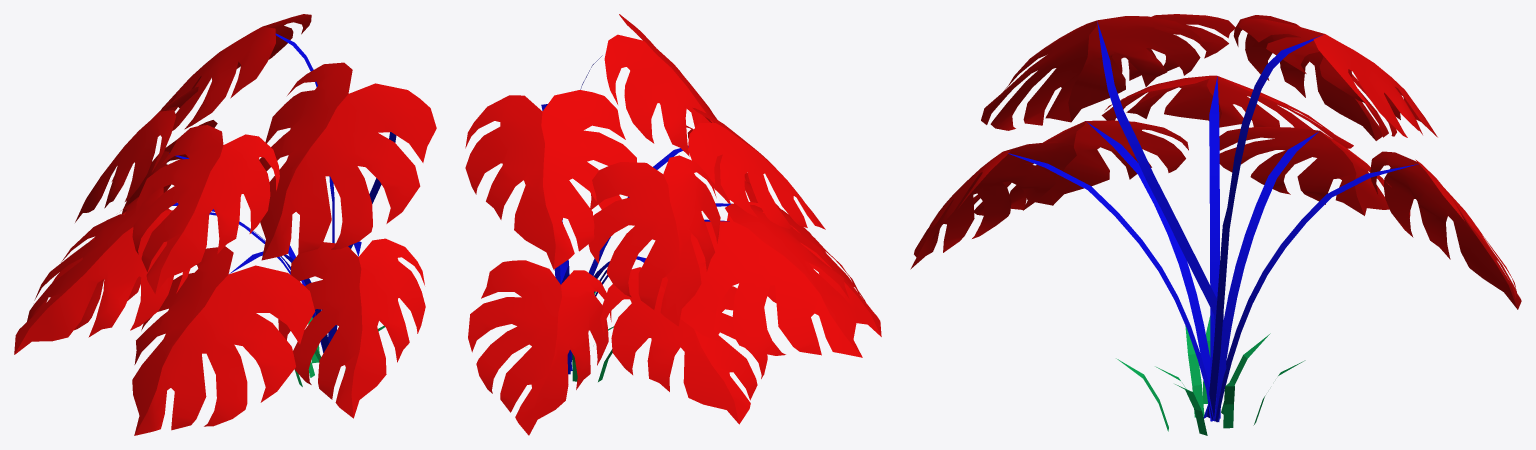
File: Monstera.fbx
3 views of the same model, side by side, from view 1: azimuth 30°, elevation 25°; view 2: azimuth 150°, elevation 25°; view 3: azimuth 270°, elevation 25° (orthographic). The views are drawn at different scales.
Parts seen in each view (by area): view 1: polySurface5, polySurface1, polySurface7, polySurface4, polySurface23, pPlane3, polySurface3, pPlane1, polySurface6, polySurface13; view 2: pPlane3, polySurface23, polySurface6, polySurface3, pPlane1, polySurface5, polySurface4, polySurface1, polySurface7; view 3: polySurface5, pPlane1, polySurface7, polySurface6, pPlane3, polySurface1, polySurface23, polySurface3, polySurface14, polySurface13, polySurface24, polySurface10 (+5 smaller).
Part boxes in pixels (<box>): polySurface5: <box>259,62,436,260</box>; polySurface1: <box>132,246,315,435</box>; polySurface7: <box>278,238,425,418</box>; polySurface4: <box>132,125,279,293</box>; polySurface23: <box>14,187,190,354</box>; pPlane3: <box>160,14,311,130</box>; polySurface3: <box>75,86,198,222</box>; pPlane1: <box>30,208,170,330</box>; polySurface6: <box>122,120,217,213</box>; polySurface13: <box>275,33,334,243</box>; pPlane3: <box>465,90,636,269</box>; polySurface23: <box>660,203,862,357</box>; polySurface6: <box>468,260,611,435</box>; polySurface3: <box>588,155,720,326</box>; pPlane1: <box>600,261,767,424</box>; polySurface5: <box>604,14,746,181</box>; polySurface4: <box>688,108,825,229</box>; polySurface1: <box>727,181,881,336</box>; polySurface7: <box>686,125,757,203</box>; polySurface5: <box>981,16,1202,130</box>; pPlane1: <box>1219,127,1410,217</box>; polySurface7: <box>910,141,1076,269</box>; polySurface6: <box>1370,151,1521,309</box>; pPlane3: <box>1238,18,1437,137</box>; polySurface1: <box>973,120,1188,215</box>; polySurface23: <box>1101,75,1353,148</box>; polySurface3: <box>1233,15,1396,140</box>; polySurface14: <box>1097,22,1226,418</box>; polySurface13: <box>1207,35,1322,419</box>; polySurface24: <box>1209,76,1220,418</box>; polySurface10: <box>1214,131,1318,421</box>.
Bounding box in the file's own units: 4.97 × 4.35 × 6.07.
